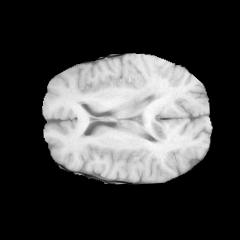glioma: (124, 81, 167, 140)
